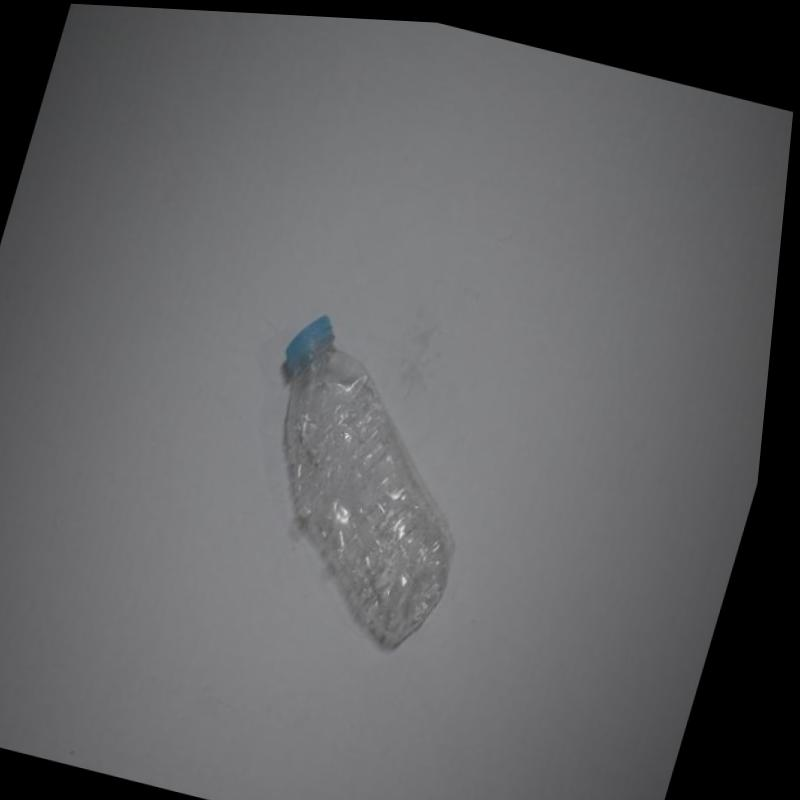botella: (216, 302, 521, 656)
